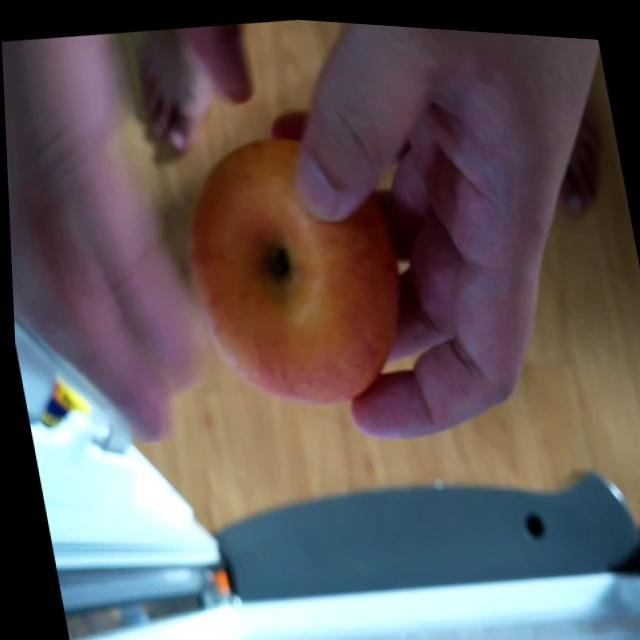apple: (161, 118, 427, 425)
